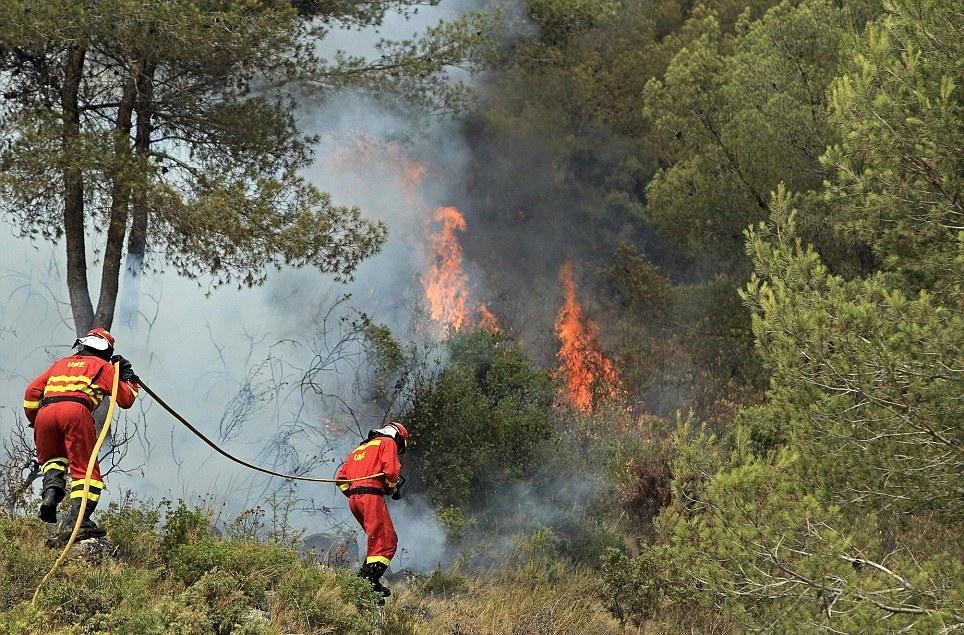fire: (557, 315, 615, 408), (420, 213, 467, 318)
